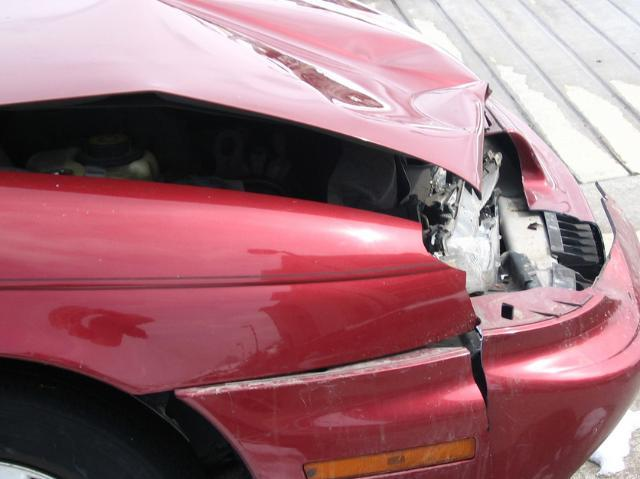Bonnet: (1, 4, 482, 192)
Bumper: (448, 115, 625, 479)
